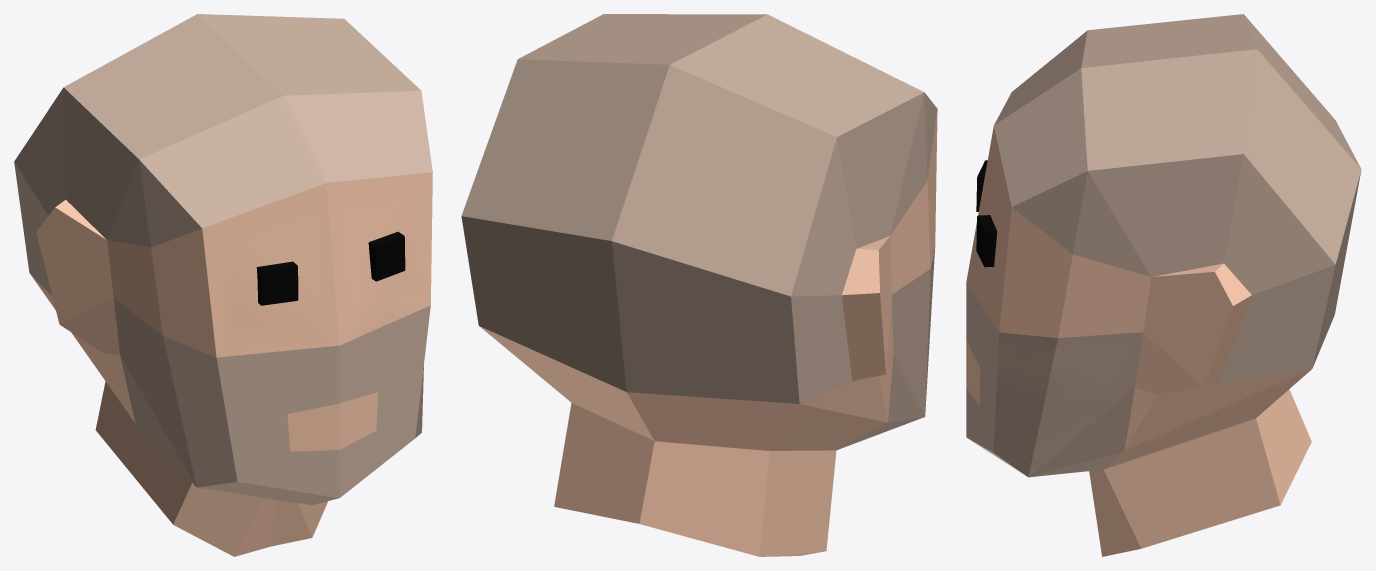
Rendered from Chr_Head_Male_20_Static.fbx.
3 views of the same model, side by side, from view 1: azimuth 30°, elevation 25°; view 2: azimuth 150°, elevation 25°; view 3: azimuth 270°, elevation 25° (orthographic). The views are drawn at different scales.
Parts seen in each view (by area): view 1: Chr_Head_Male_20_Static; view 2: Chr_Head_Male_20_Static; view 3: Chr_Head_Male_20_Static.
Boxes of the visible parts, x1=… form: Chr_Head_Male_20_Static: x1=14, y1=14, x2=432, y2=556; Chr_Head_Male_20_Static: x1=461, y1=14, x2=937, y2=556; Chr_Head_Male_20_Static: x1=966, y1=14, x2=1361, y2=556.
Bounding box in the file's own units: 0.2661 × 0.3523 × 0.2574.
